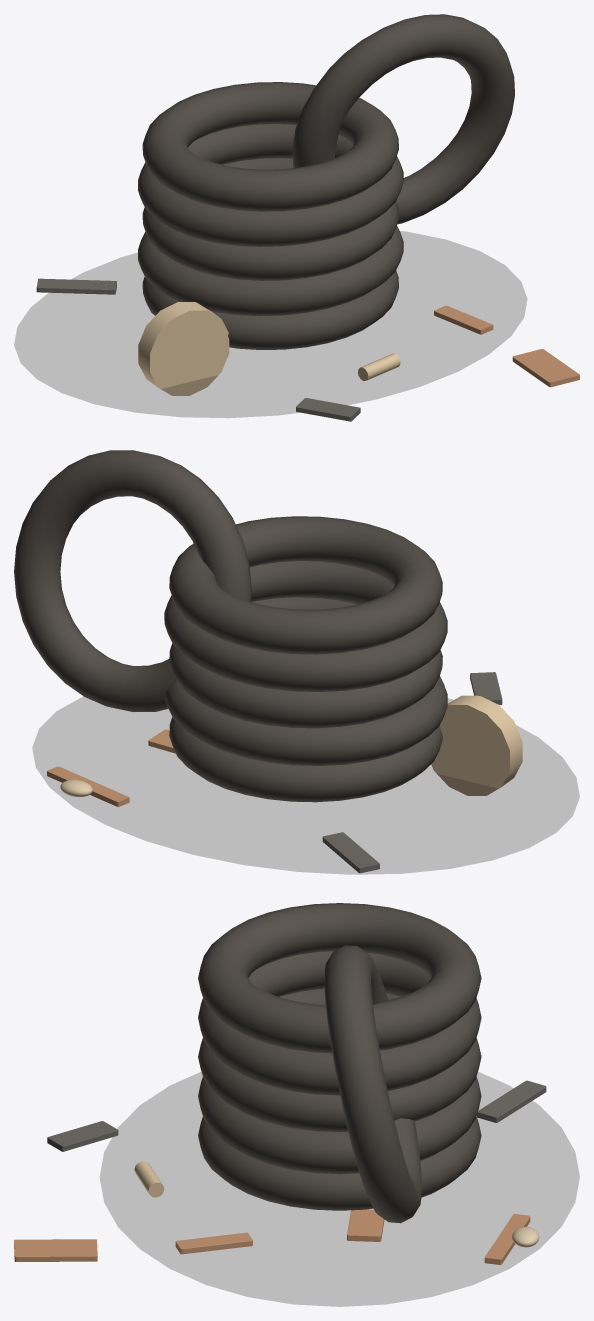
Rendered from tire_stack.glb.
3 renders of one model, top to bottom at view 1: azimuth 30°, elevation 25°; view 2: azimuth 150°, elevation 25°; view 3: azimuth 270°, elevation 25°, orthographic. The views are drawn at different scales.
Visible parts, largest first — view 1: painted_contact_shadow, stacked_cracked_tire_4, leaning_loose_tire, stacked_cracked_tire_3, stacked_cracked_tire_1, stacked_cracked_tire_2, discarded_rim, stacked_cracked_tire_0, loose_scrap_flake_0, loose_scrap_flake_5, loose_scrap_flake_1, loose_scrap_flake_4 (+1 smaller); view 2: painted_contact_shadow, leaning_loose_tire, stacked_cracked_tire_4, stacked_cracked_tire_3, stacked_cracked_tire_1, stacked_cracked_tire_2, stacked_cracked_tire_0, discarded_rim, loose_scrap_flake_5, loose_scrap_flake_6, loose_scrap_flake_1; view 3: painted_contact_shadow, stacked_cracked_tire_4, leaning_loose_tire, stacked_cracked_tire_3, stacked_cracked_tire_2, stacked_cracked_tire_1, stacked_cracked_tire_0, loose_scrap_flake_0, loose_scrap_flake_5, loose_scrap_flake_1, loose_scrap_flake_4, loose_scrap_flake_2 (+2 smaller).
Boxes of the visible parts, x1=… form: painted_contact_shadow: x1=14, y1=231, x2=527, y2=417; stacked_cracked_tire_4: x1=142, y1=82, x2=398, y2=211; leaning_loose_tire: x1=292, y1=14, x2=514, y2=224; stacked_cracked_tire_3: x1=138, y1=124, x2=403, y2=246; stacked_cracked_tire_1: x1=138, y1=225, x2=403, y2=316; stacked_cracked_tire_2: x1=142, y1=158, x2=398, y2=280; discarded_rim: x1=138, y1=302, x2=229, y2=395; stacked_cracked_tire_0: x1=142, y1=270, x2=398, y2=349; loose_scrap_flake_0: x1=512, y1=349, x2=579, y2=387; loose_scrap_flake_5: x1=36, y1=278, x2=116, y2=294; loose_scrap_flake_1: x1=296, y1=398, x2=360, y2=421; loose_scrap_flake_4: x1=434, y1=305, x2=493, y2=334; painted_contact_shadow: x1=32, y1=696, x2=579, y2=874; leaning_loose_tire: x1=14, y1=450, x2=251, y2=712; stacked_cracked_tire_4: x1=169, y1=516, x2=442, y2=654; stacked_cracked_tire_3: x1=164, y1=561, x2=447, y2=691; stacked_cracked_tire_1: x1=164, y1=676, x2=447, y2=765; stacked_cracked_tire_2: x1=169, y1=597, x2=442, y2=728; stacked_cracked_tire_0: x1=169, y1=717, x2=442, y2=802; discarded_rim: x1=431, y1=695, x2=522, y2=795; loose_scrap_flake_5: x1=322, y1=832, x2=379, y2=873; loose_scrap_flake_6: x1=47, y1=766, x2=129, y2=806; loose_scrap_flake_1: x1=470, y1=672, x2=502, y2=704; painted_contact_shadow: x1=100, y1=1072, x2=579, y2=1306; stacked_cracked_tire_4: x1=198, y1=903, x2=481, y2=1053; leaning_loose_tire: x1=324, y1=945, x2=421, y2=1223; stacked_cracked_tire_3: x1=198, y1=951, x2=481, y2=1095; stacked_cracked_tire_2: x1=198, y1=988, x2=481, y2=1132; stacked_cracked_tire_1: x1=198, y1=1077, x2=481, y2=1174; stacked_cracked_tire_0: x1=198, y1=1116, x2=481, y2=1210; loose_scrap_flake_0: x1=14, y1=1239, x2=97, y2=1261; loose_scrap_flake_5: x1=477, y1=1080, x2=546, y2=1122; loose_scrap_flake_1: x1=47, y1=1121, x2=118, y2=1151; loose_scrap_flake_4: x1=175, y1=1232, x2=252, y2=1254; loose_scrap_flake_2: x1=347, y1=1209, x2=384, y2=1241.
Bounding box in the file's own units: 1.92 × 1.04 × 1.7.
